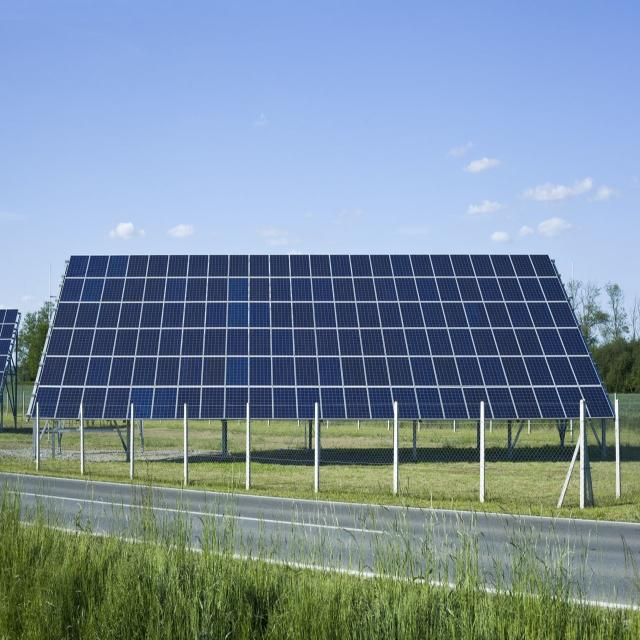clean-solar-panel: (35, 255, 610, 418)
